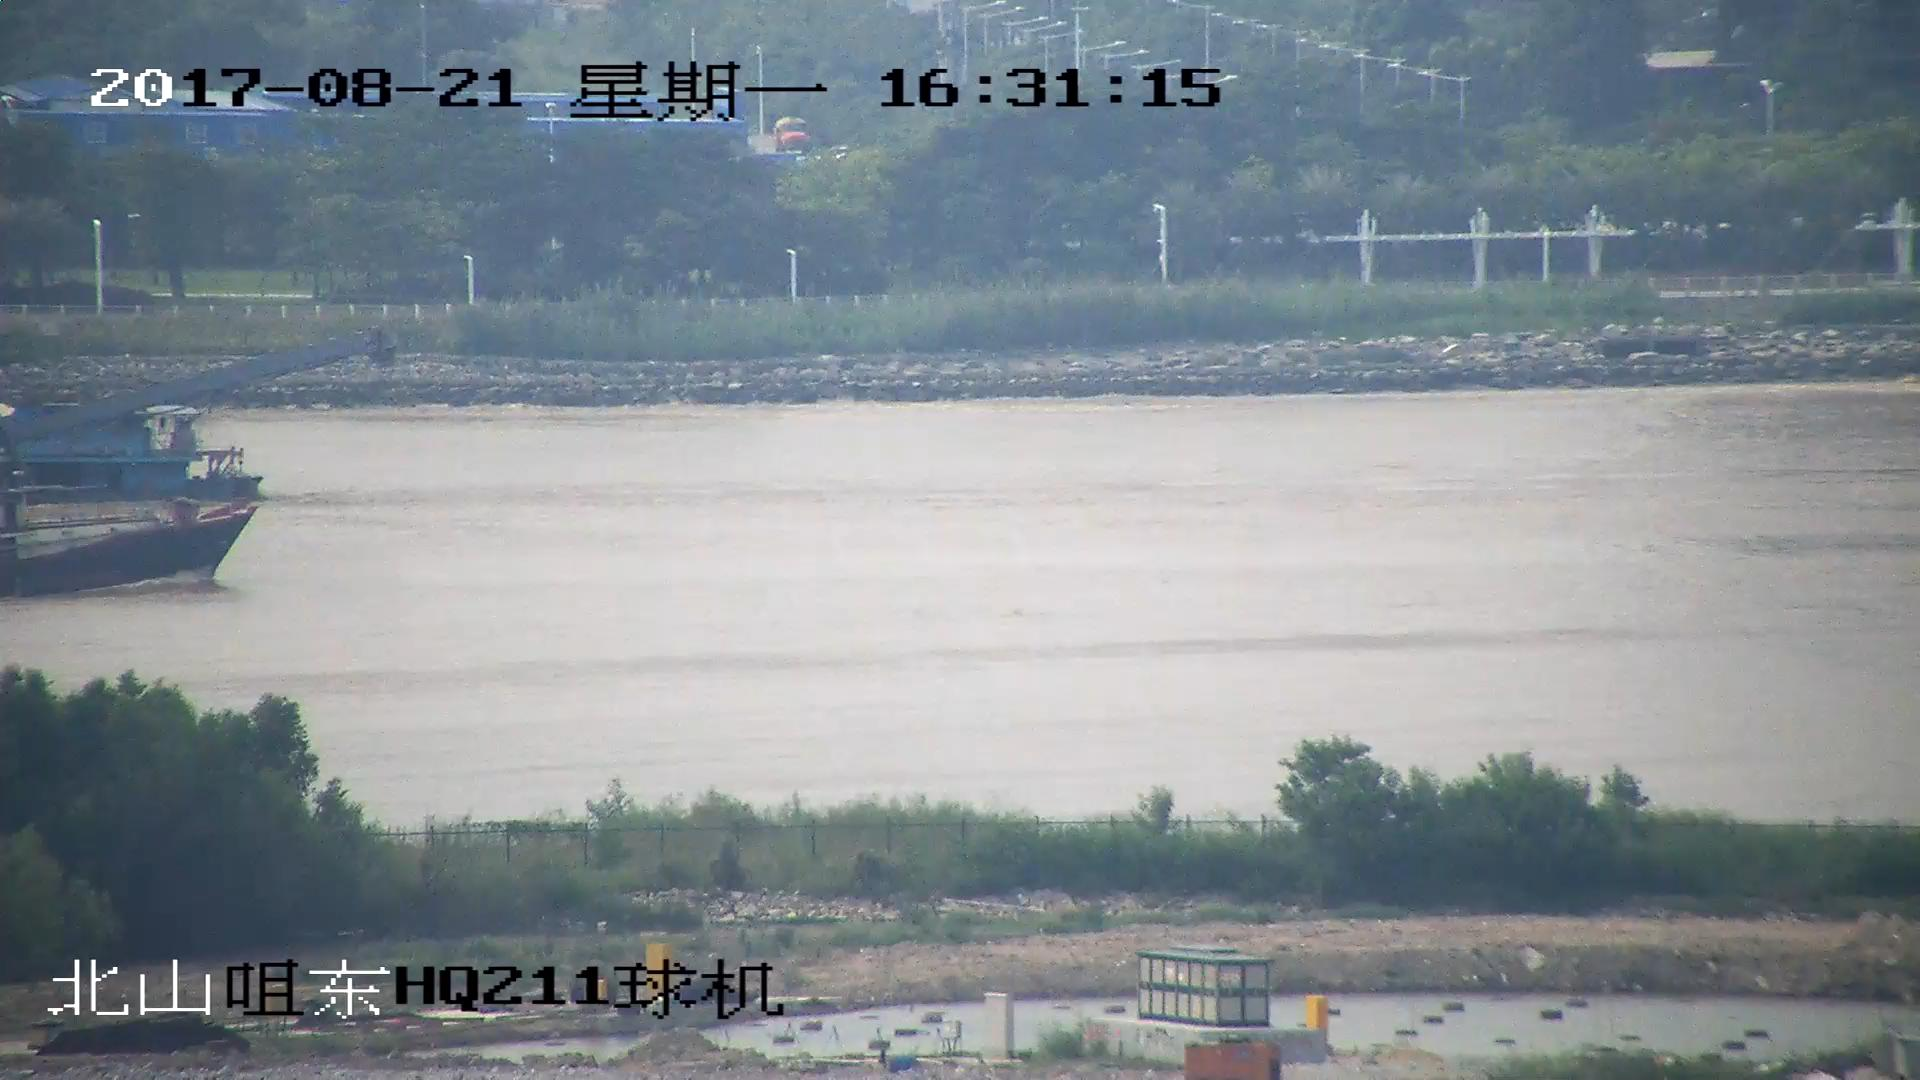fishing boat: (1, 474, 251, 595)
ore carrier: (1, 333, 389, 501)
